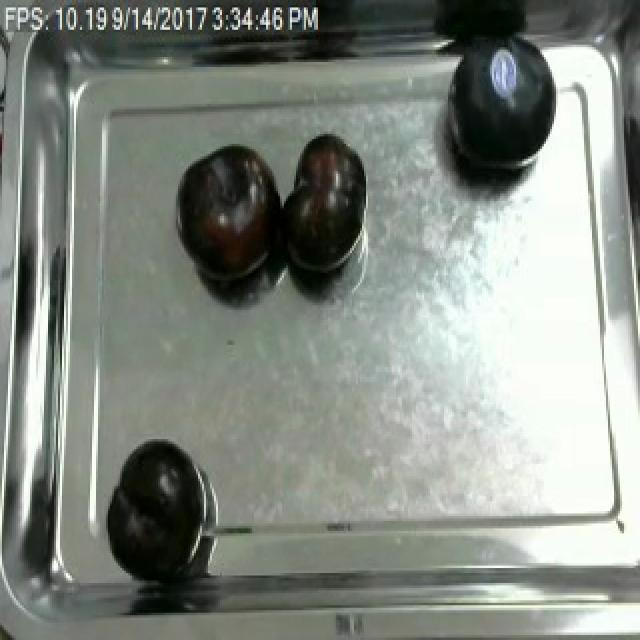Fruit: (434, 32, 566, 189), (102, 434, 212, 586), (174, 142, 286, 290), (270, 124, 370, 283), (428, 0, 536, 40)
